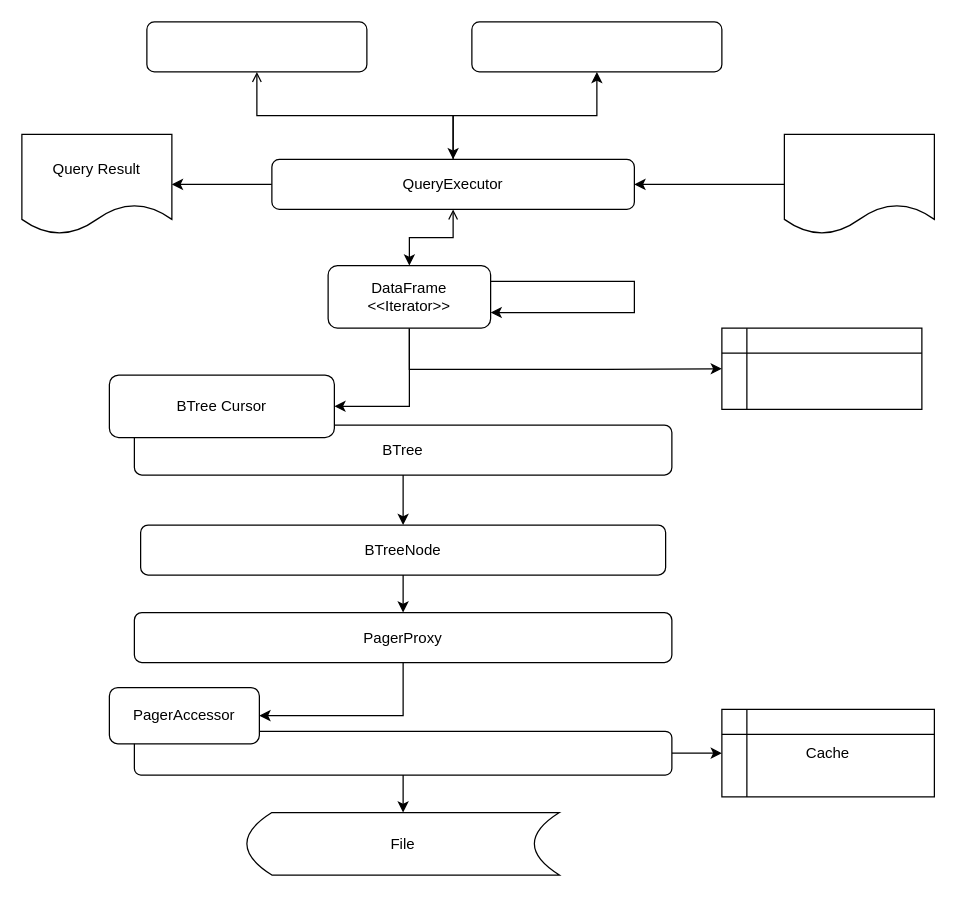
This 956x898 diagram has some shape labels left out. Here are the shapes that lost their labels. From the top down, the centre of each, then its label:
the point at 256,46: Planner
the point at 596,46: Parser
the point at 858,183: Query
the point at 821,368: Memory
the point at 402,752: Pager
